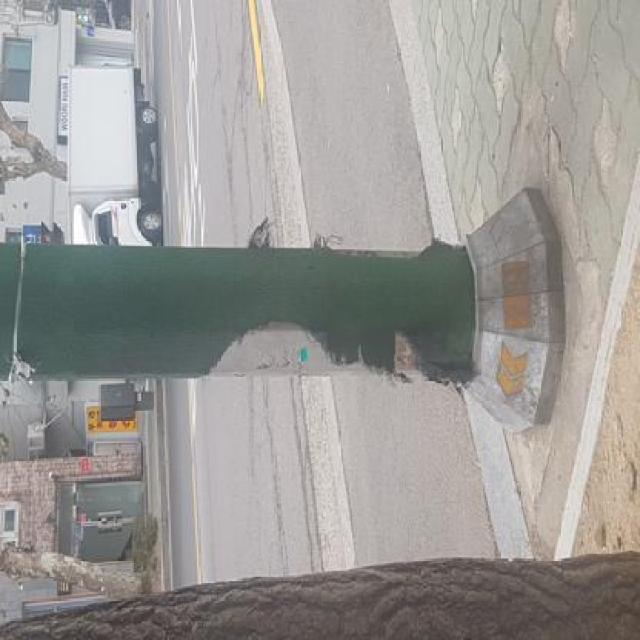pole: (0, 177, 574, 441)
